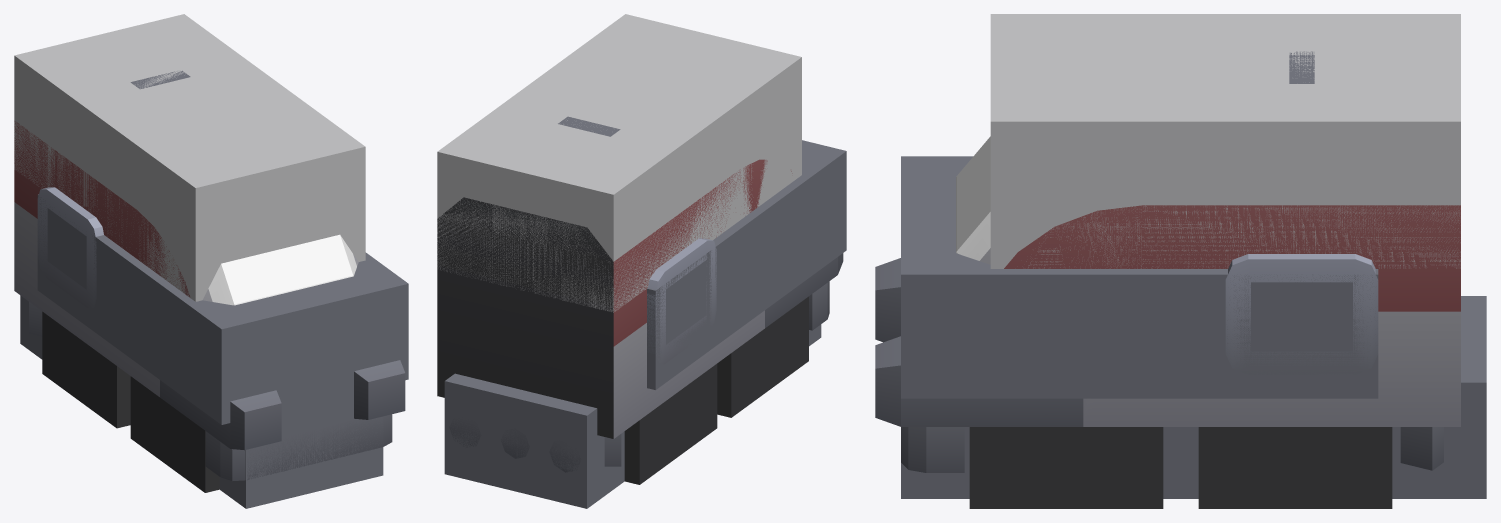
Rendered from train.commuter.glb.
3 views of the same model, side by side, from view 1: azimuth 30°, elevation 25°; view 2: azimuth 150°, elevation 25°; view 3: azimuth 270°, elevation 25° (orthographic). The views are drawn at different scales.
Parts seen in each view (by area): view 1: far, near; view 2: far, near; view 3: far, near.
Boxes of the visible parts, <box> form: far: <box>14,14,408,508</box>; near: <box>14,70,405,492</box>; far: <box>437,14,846,508</box>; near: <box>437,116,843,484</box>; far: <box>901,14,1486,498</box>; near: <box>875,51,1460,508</box>.
Size of the model in its own units: 2.9 by 4.44 by 6.33.
